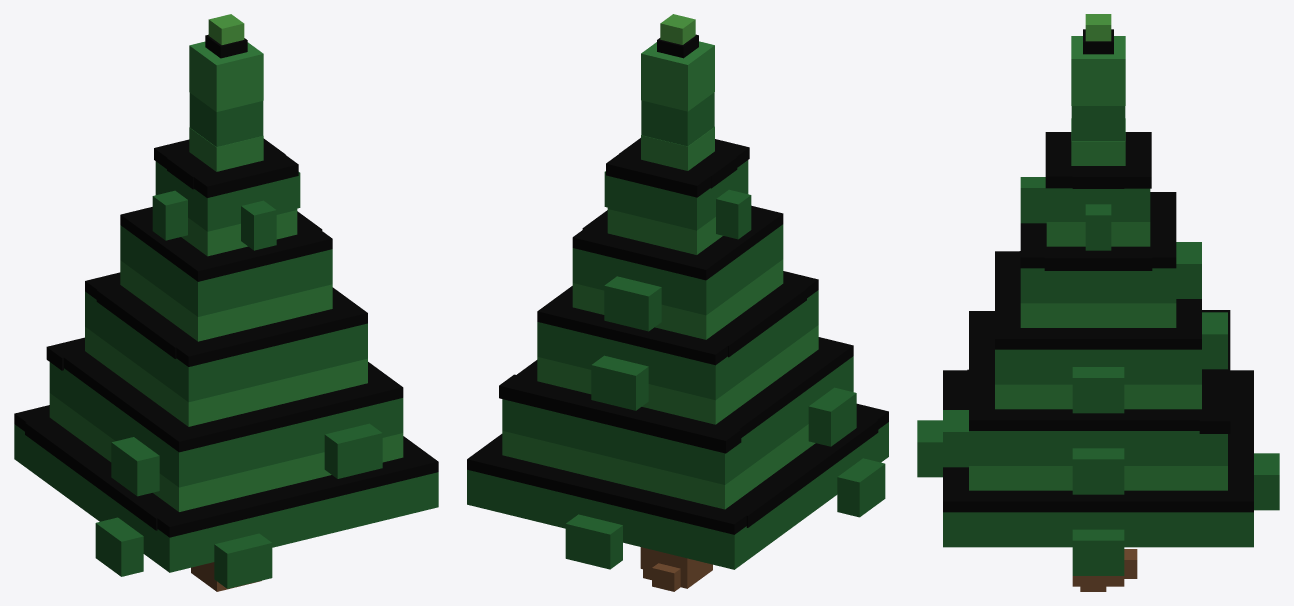
Rendered from SnowPine.obj.
3 renders of one model, left to right at view 1: azimuth 30°, elevation 25°; view 2: azimuth 150°, elevation 25°; view 3: azimuth 270°, elevation 25°, orthographic.
Visible parts, largest first — view 1: SnowPine; view 2: SnowPine; view 3: SnowPine.
Boxes of the visible parts, x1,y1,x2,y2 form: SnowPine: (14, 14, 438, 591); SnowPine: (467, 14, 888, 591); SnowPine: (917, 14, 1279, 591).
Bounding box in the file's own units: 14 × 23.7 × 14.
